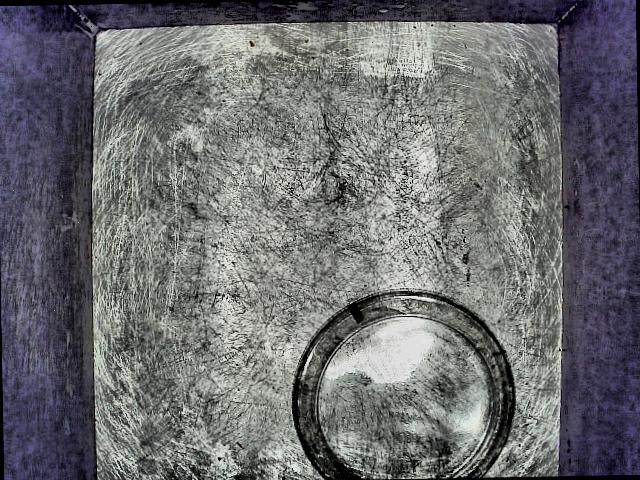Plastic: (275, 268, 529, 480)
